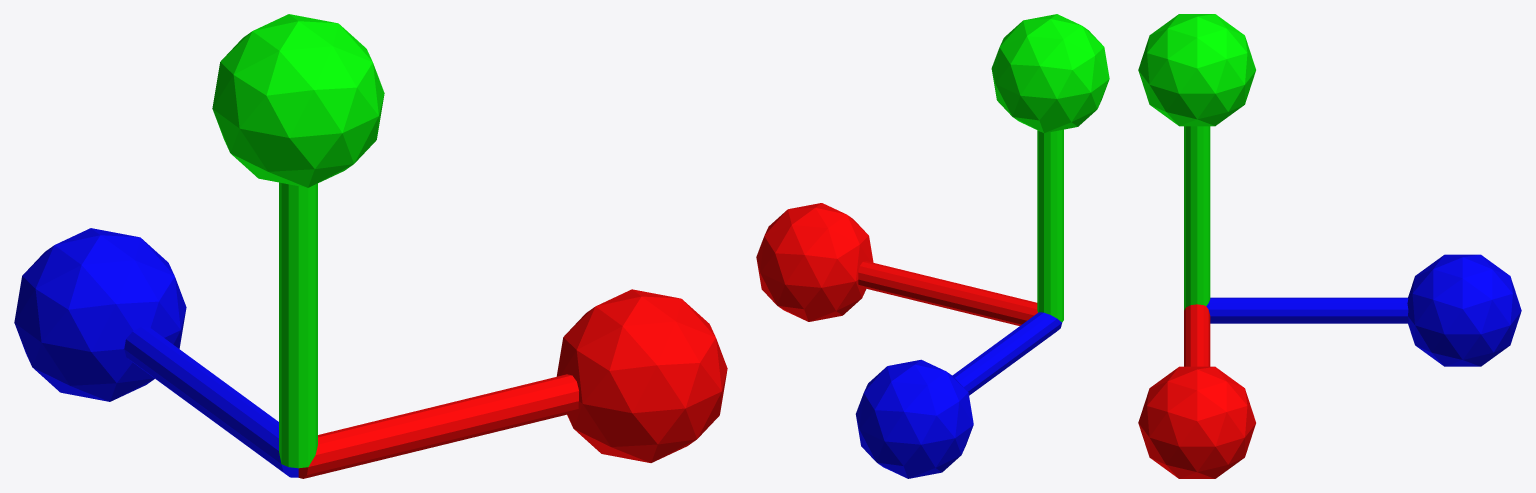
Rendered from rotate-pointer.gltf.
3 renders of one model, left to right at view 1: azimuth 30°, elevation 25°; view 2: azimuth 150°, elevation 25°; view 3: azimuth 270°, elevation 25°, orthographic. The views are drawn at different scales.
Visible parts, largest first — view 1: IcosphereY, IcosphereX, IcosphereZ, CylinderX, CylinderY, CylinderZ; view 2: IcosphereZ, IcosphereY, IcosphereX, CylinderY, CylinderX, CylinderZ; view 3: IcosphereX, IcosphereY, IcosphereZ, CylinderZ, CylinderY, CylinderX.
Part boxes in pixels (x1,y1,x2,y2): IcosphereY: [212, 14, 384, 187]; IcosphereX: [556, 289, 727, 462]; IcosphereZ: [14, 228, 186, 401]; CylinderX: [298, 374, 578, 478]; CylinderY: [279, 182, 317, 468]; CylinderZ: [124, 327, 298, 477]; IcosphereZ: [855, 359, 973, 478]; IcosphereY: [991, 14, 1109, 133]; IcosphereX: [756, 203, 873, 321]; CylinderY: [1037, 129, 1063, 322]; CylinderX: [858, 261, 1037, 325]; CylinderZ: [952, 312, 1061, 395]; IcosphereX: [1138, 366, 1255, 478]; IcosphereY: [1138, 14, 1255, 126]; IcosphereZ: [1407, 254, 1521, 366]; CylinderZ: [1206, 297, 1408, 323]; CylinderY: [1184, 126, 1210, 310]; CylinderX: [1184, 304, 1210, 366].
Size of the model in its own units: 1.28 by 1.3 by 1.3.
